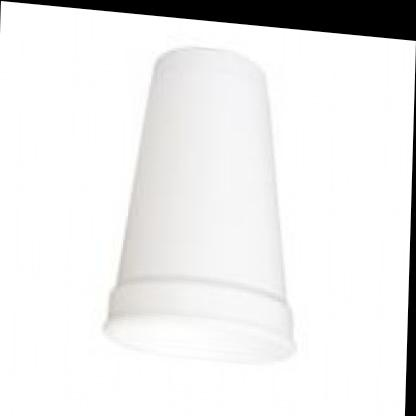trash: (106, 48, 293, 361)
